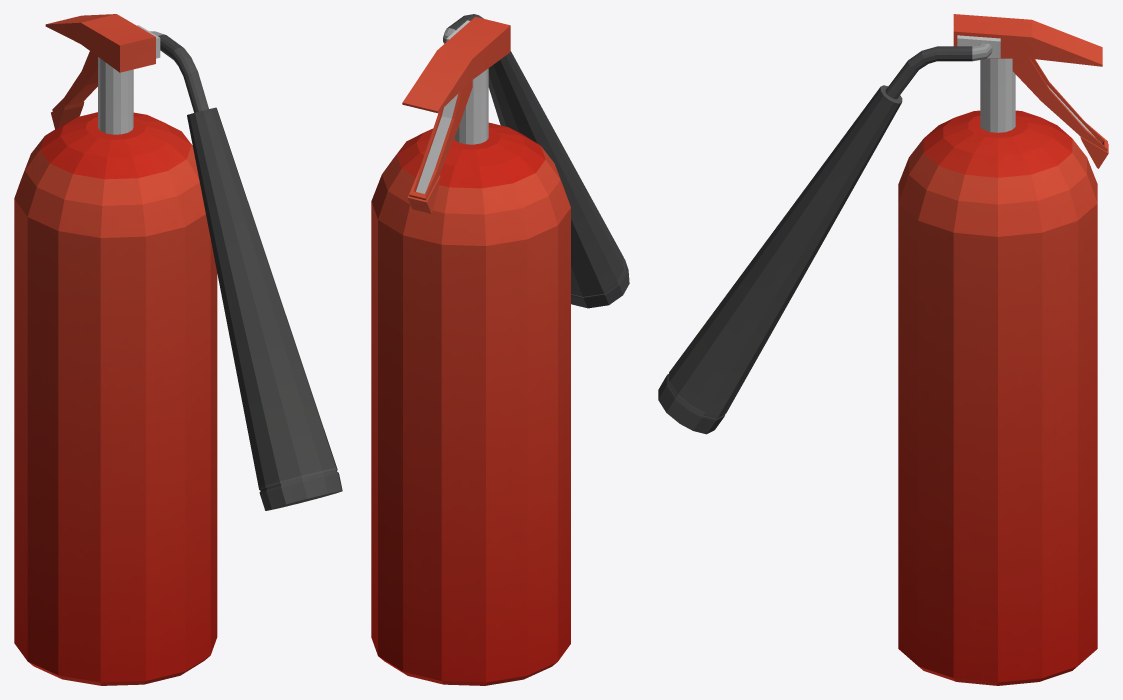
The model's file is fire_extinguisher_1.dae.
The picture shows the model from 3 angles, left to right: view 1: azimuth 30°, elevation 25°; view 2: azimuth 150°, elevation 25°; view 3: azimuth 270°, elevation 25°; orthographic projection. The views are drawn at different scales.
Visible parts, largest first — view 1: flask, nozzle, head, handle; view 2: flask, nozzle, head, handle; view 3: flask, nozzle, head, handle.
Boxes of the visible parts, x1,y1,x2,y2 form: flask: (14, 57, 217, 685); nozzle: (150, 31, 342, 510); head: (45, 14, 160, 72); handle: (51, 51, 97, 129); flask: (371, 68, 570, 685); nozzle: (443, 14, 629, 308); head: (402, 17, 510, 113); handle: (407, 80, 472, 213); flask: (898, 58, 1097, 685); nozzle: (658, 43, 992, 434); head: (953, 14, 1102, 66); handle: (1012, 58, 1108, 168).
Bounding box in the file's own units: 0.1554 × 0.3426 × 0.5228.
